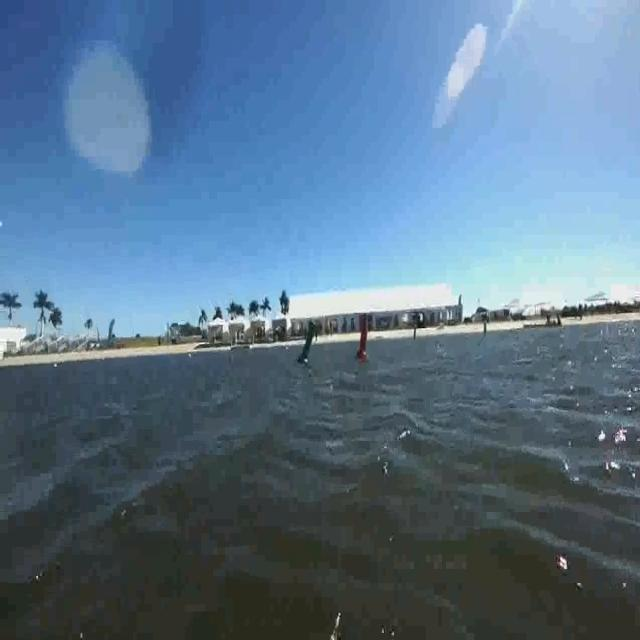green-column-buoy: (298, 314, 320, 377)
red-column-buoy: (355, 314, 372, 362)
